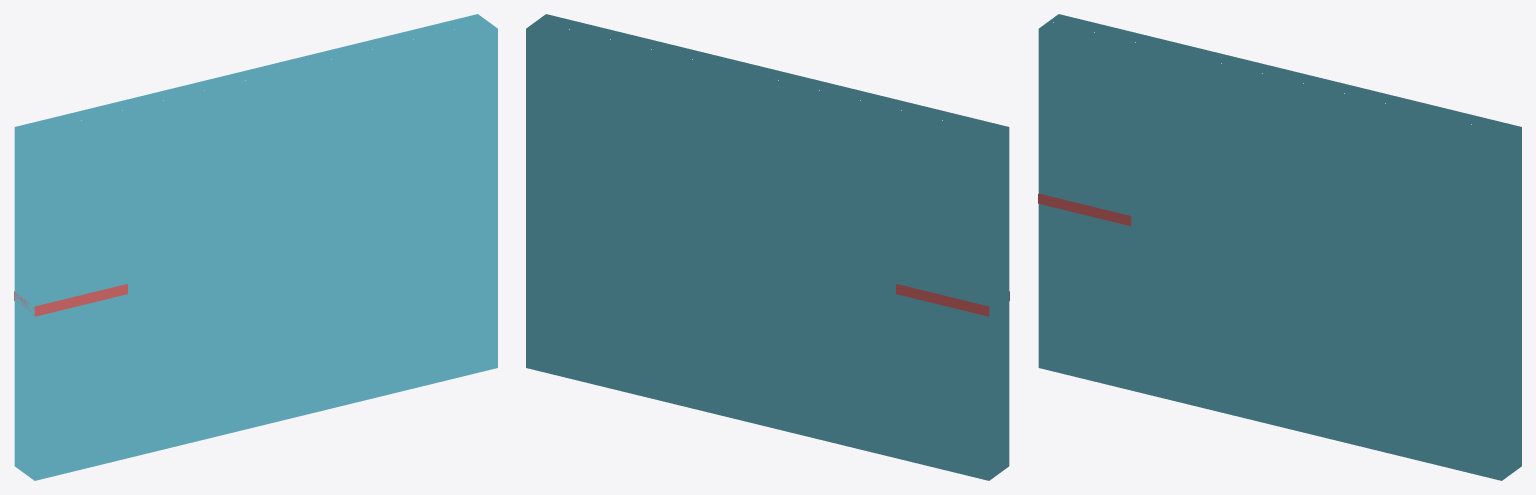
Rendered from crack_propagation.glb.
The picture shows the model from 3 angles, left to right: view 1: azimuth 30°, elevation 25°; view 2: azimuth 150°, elevation 25°; view 3: azimuth 330°, elevation 25°; orthographic projection.
Visible parts, largest first — view 1: CrackedPlateSpecimen, CrackTipDetail; view 2: CrackedPlateSpecimen, CrackTipDetail; view 3: CrackedPlateSpecimen, CrackTipDetail.
Boxes of the visible parts, box(x1,y1,x2,y2) form: CrackedPlateSpecimen: box(14, 14, 497, 480); CrackTipDetail: box(14, 284, 127, 316); CrackedPlateSpecimen: box(526, 14, 1009, 480); CrackTipDetail: box(896, 284, 1009, 316); CrackedPlateSpecimen: box(1038, 14, 1521, 480); CrackTipDetail: box(1038, 193, 1131, 225).
Bounding box in the file's own units: 2 × 1.4 × 0.16.
